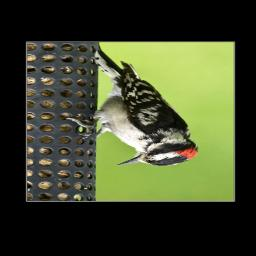Woodpecker: (70, 49, 198, 169)
